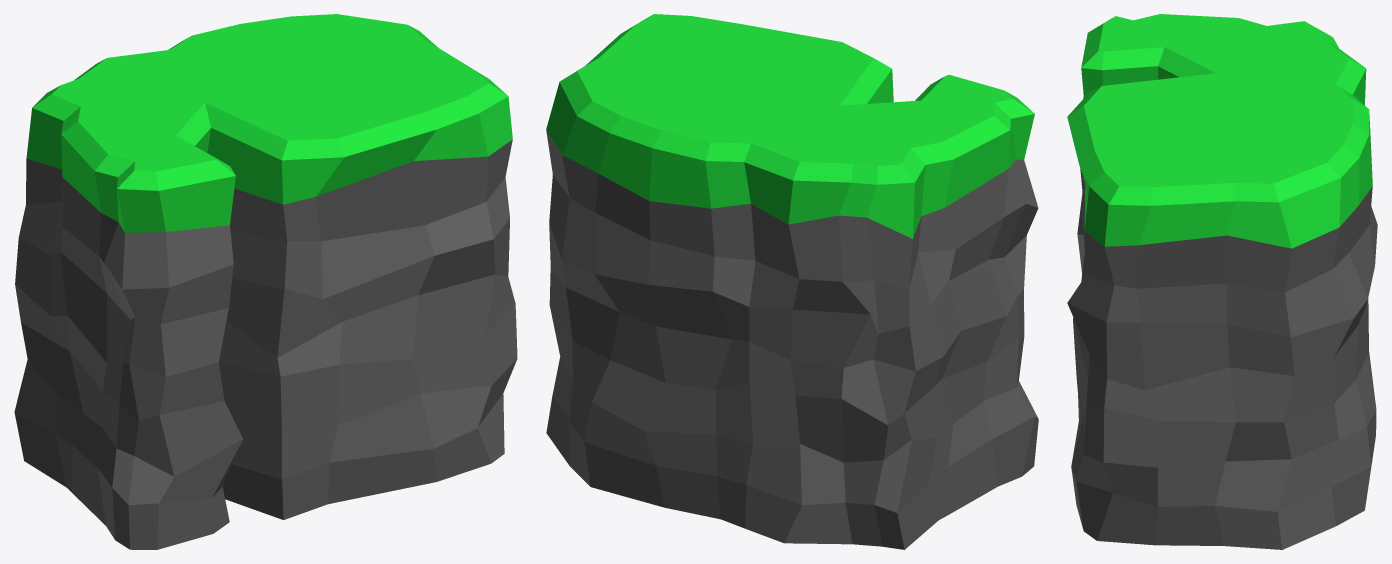
Rendered from cliff_1.fbx.
The picture shows the model from 3 angles, left to right: view 1: azimuth 30°, elevation 25°; view 2: azimuth 150°, elevation 25°; view 3: azimuth 270°, elevation 25°; orthographic projection. The views are drawn at different scales.
Visible parts, largest first — view 1: cliff1; view 2: cliff1; view 3: cliff1.
Part boxes in pixels (<box>): cliff1: <box>14,14,517,549</box>; cliff1: <box>546,14,1038,549</box>; cliff1: <box>1067,14,1377,549</box>.
Size of the model in its own units: 231 by 204 by 159.
